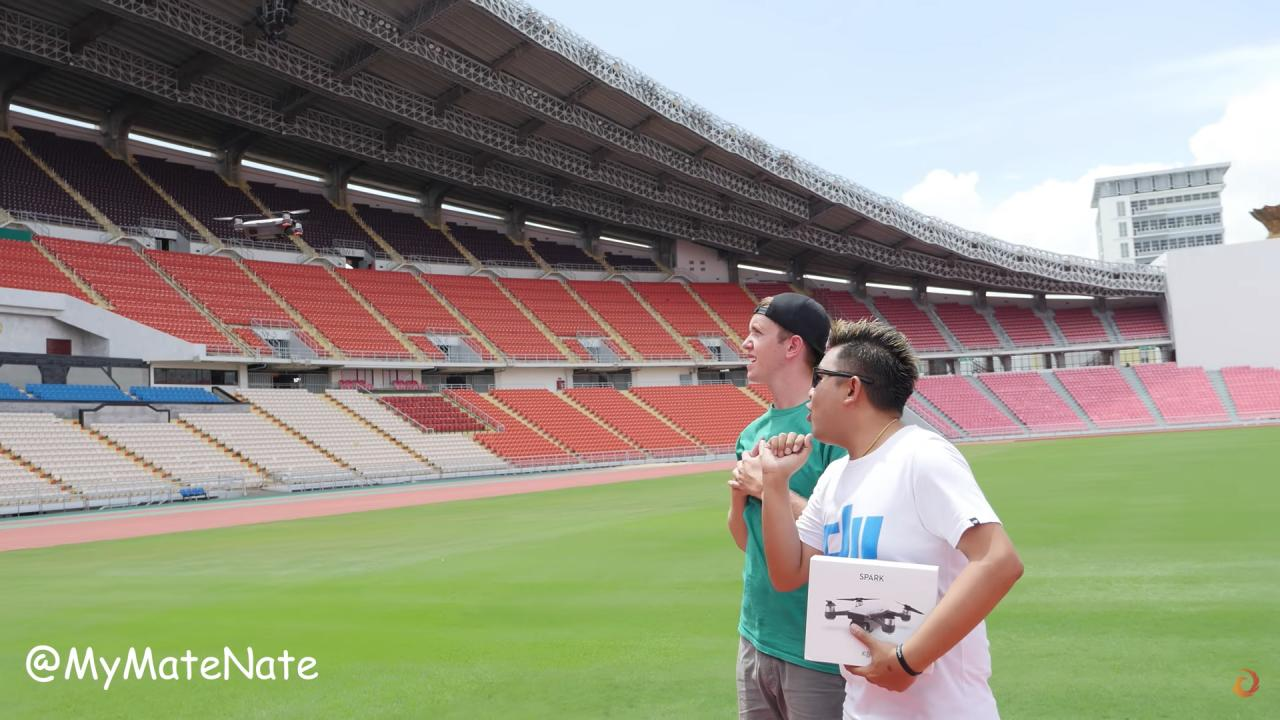Drone: (202, 193, 324, 258)
